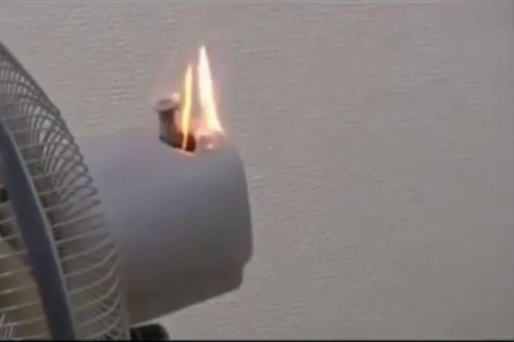fire: (172, 46, 231, 153)
